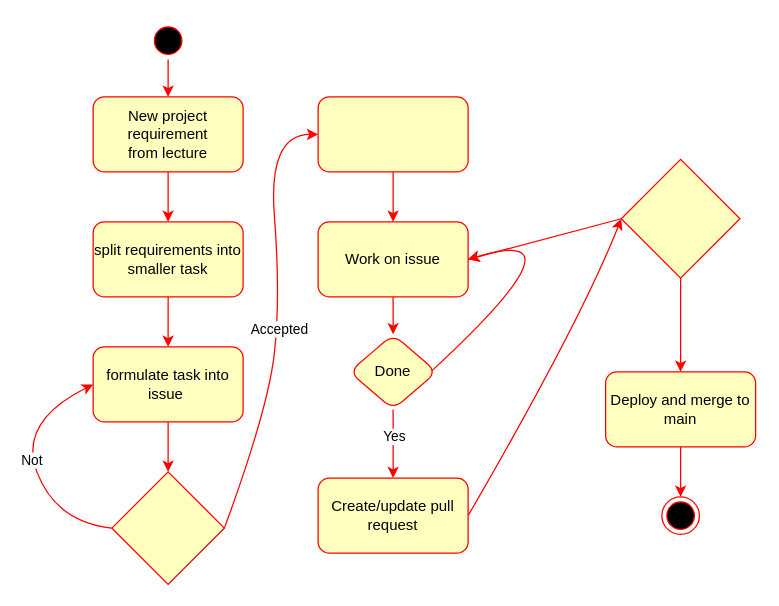
Some shapes in this 779 by 606 pixel diagram are drawn without their labels. Each missing label, with the centre of its shape:
"Approved by 2 additional members" belongs at [680,218].
"Formulation accepted?" belongs at [167,527].
"Post issue / assign developer" belongs at [392,134].
